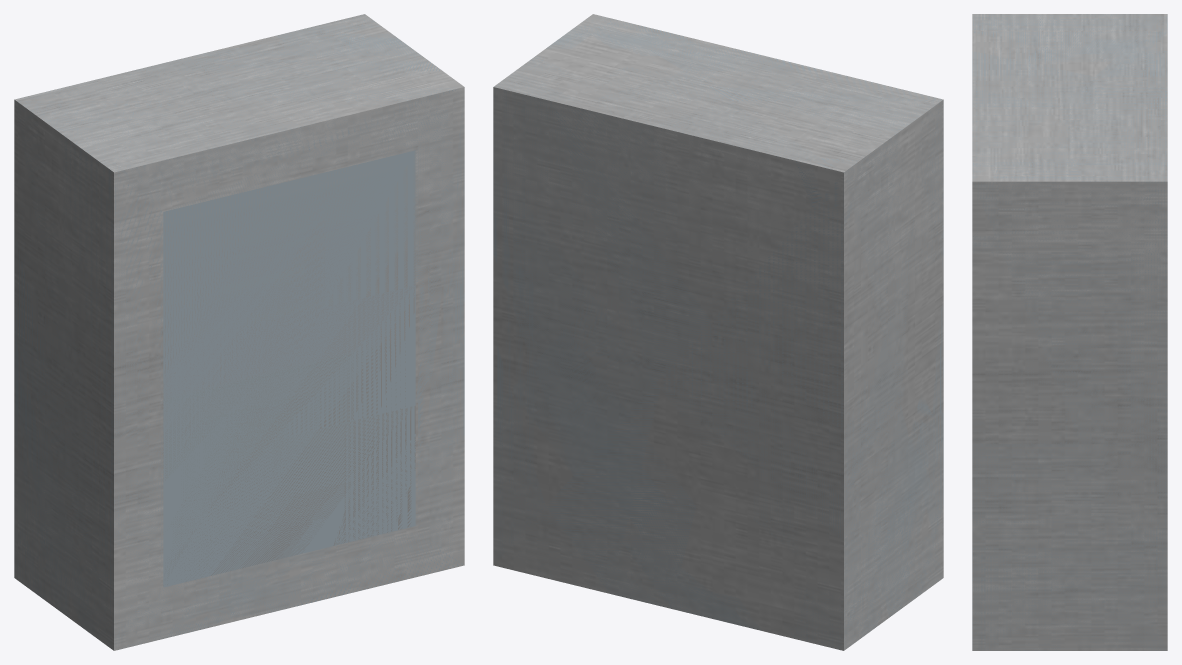
File: botiquin.fbx
The picture shows the model from 3 angles, left to right: view 1: azimuth 30°, elevation 25°; view 2: azimuth 150°, elevation 25°; view 3: azimuth 270°, elevation 25°; orthographic projection.
Parts seen in each view (by area): view 1: Model; view 2: Model; view 3: Model.
Part boxes in pixels (x1,y1,x2,y2): Model: (14,14,464,650); Model: (493,14,943,650); Model: (972,14,1167,650).
Size of the model in its own units: 0.69 by 0.9 by 0.34.
